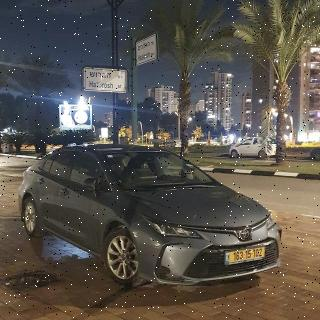LicensePlate: (228, 247, 266, 263)
